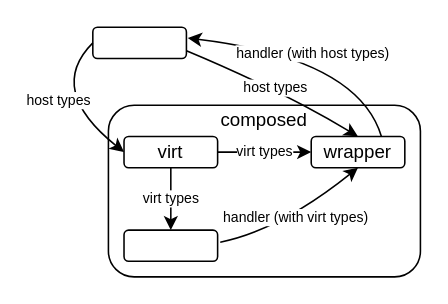
Image size: 448x304. Some labels were removed from this diagram. The centre of each missing label's shape, as x and y in pixels:
app: the point at 170,245
host: the point at 138,42
